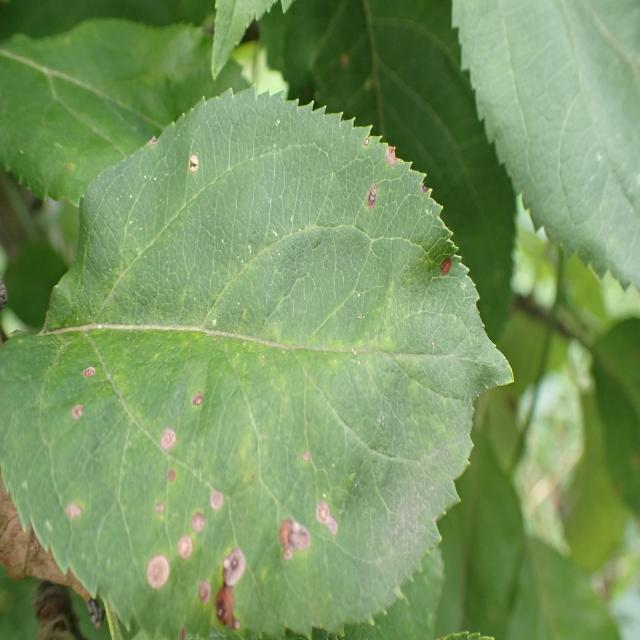Black Rot: (269, 511, 312, 566), (140, 544, 175, 604), (314, 491, 344, 559), (214, 544, 254, 593), (180, 142, 212, 195), (212, 586, 242, 640), (154, 411, 182, 462), (204, 481, 240, 516), (58, 492, 88, 533), (438, 246, 459, 297), (188, 379, 212, 420), (357, 181, 386, 213), (190, 574, 215, 611), (383, 138, 408, 173), (174, 531, 194, 570), (64, 398, 91, 426), (159, 462, 183, 492), (298, 441, 319, 474), (78, 357, 98, 391), (148, 498, 176, 522), (185, 512, 210, 533)
